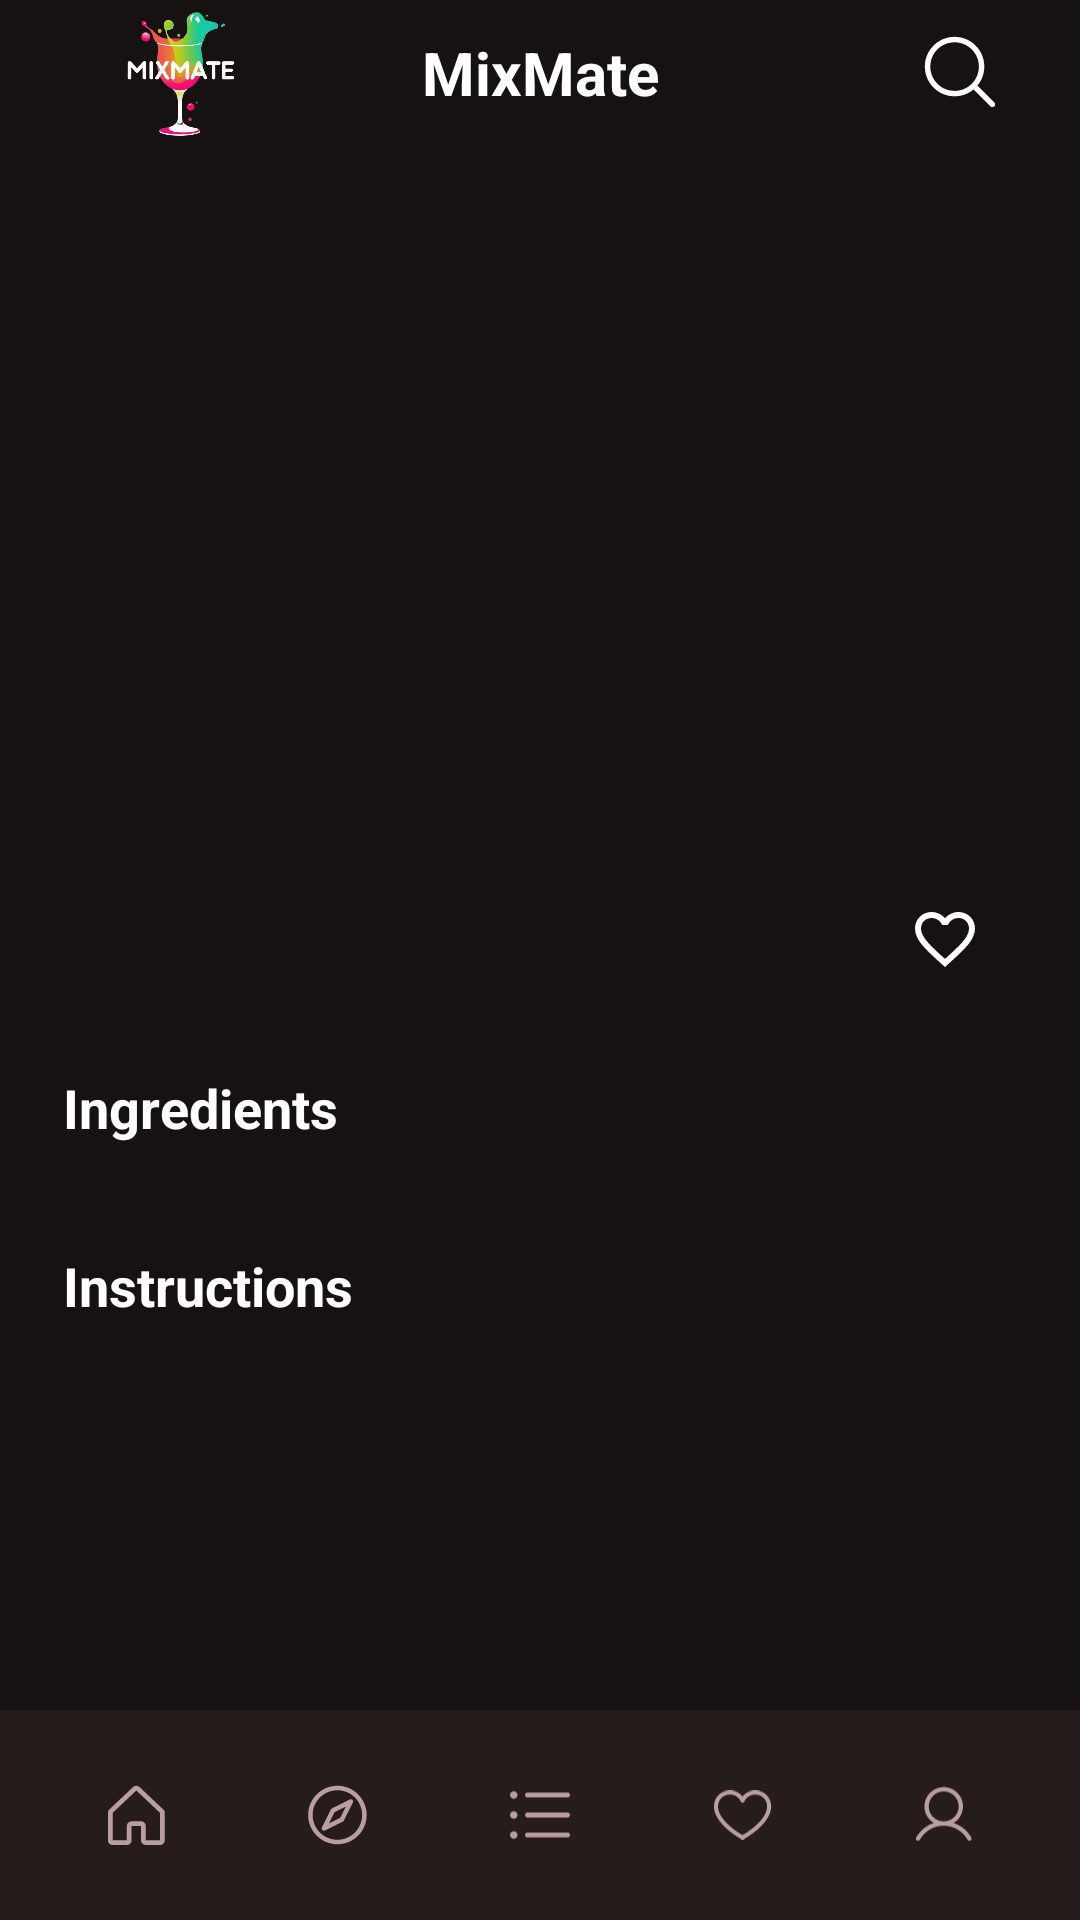

Where to tap for icons on this 1080*1920 app screen, as point (x, y):
Discover: point (337, 1815)
Favourites: point (742, 1815)
heart: point (945, 939)
Home: point (136, 1815)
My Bar: point (540, 1815)
Profile: point (944, 1813)
Search: point (959, 71)
